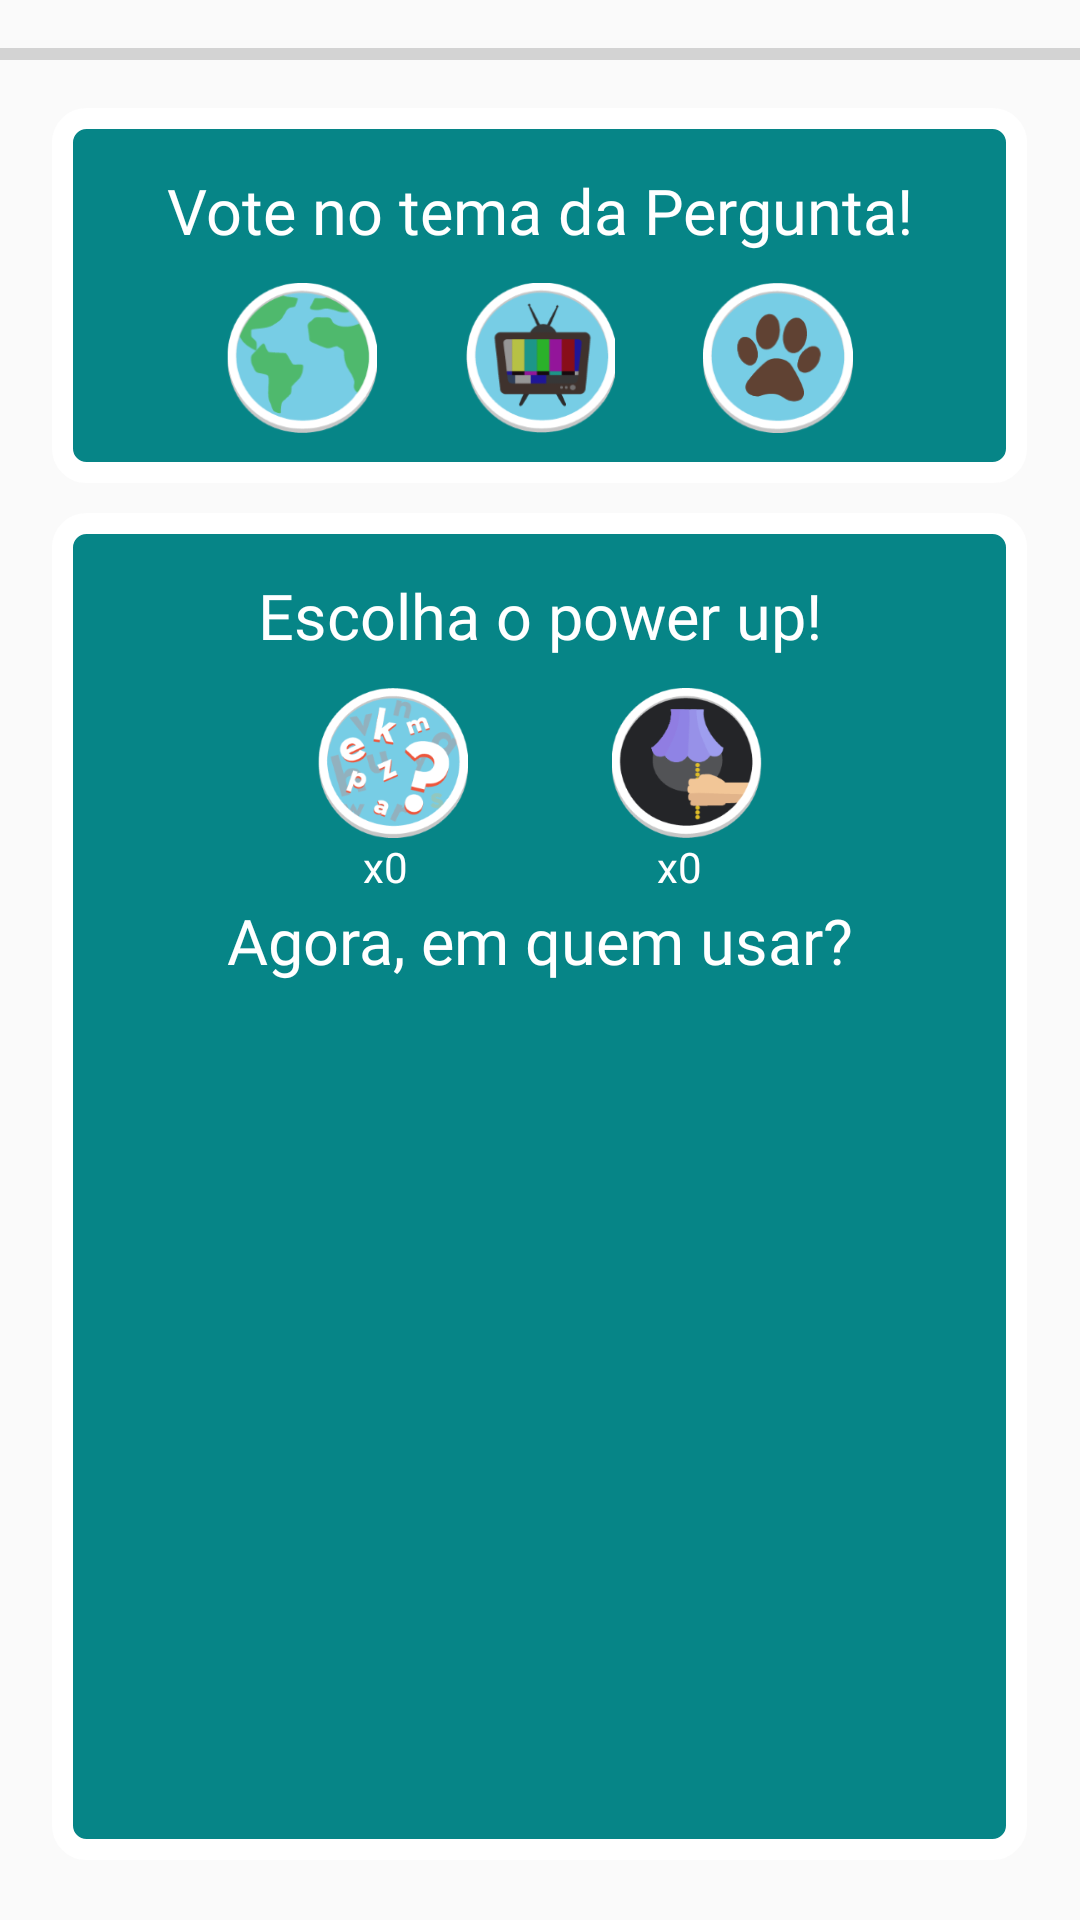

Icon bounding boxes for this 1080×1920 phone screenshot, format (x1, y1, x2, y2):
powerup scramble: (318, 688, 468, 838)
theme animal: (703, 283, 853, 433)
theme tv: (466, 283, 615, 433)
theme world: (227, 283, 377, 433)
